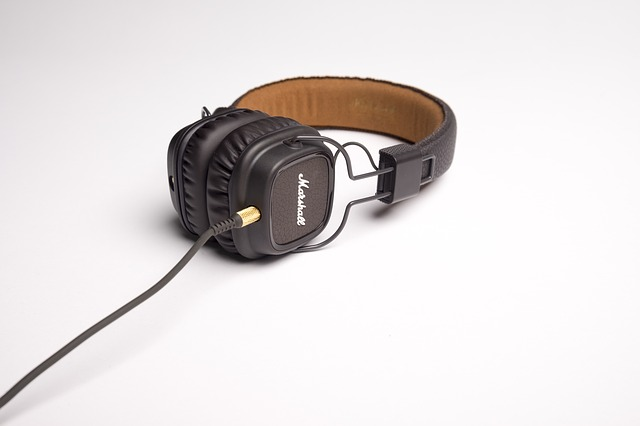headphones: (168, 76, 457, 262)
